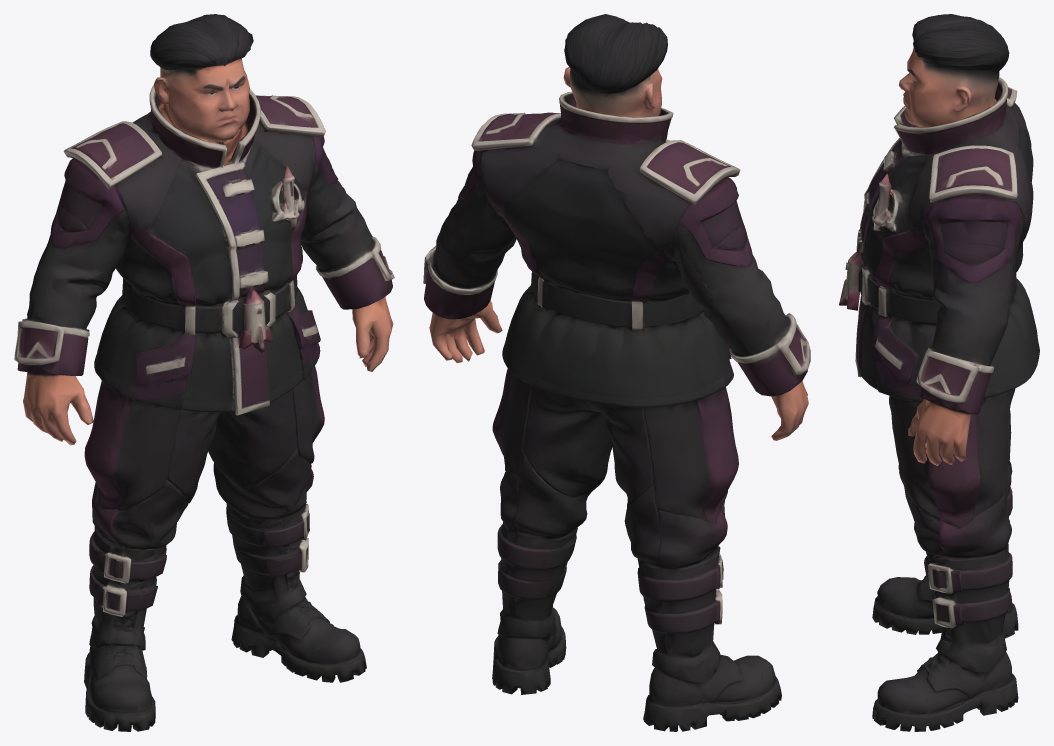
Rendered from kim.glb.
3 views of the same model, side by side, from view 1: azimuth 30°, elevation 25°; view 2: azimuth 150°, elevation 25°; view 3: azimuth 270°, elevation 25° (orthographic). The views are drawn at different scales.
Parts seen in each view (by area): view 1: tripo_node_d0d7dd18-e78b-4821-b3fd-791743546282; view 2: tripo_node_d0d7dd18-e78b-4821-b3fd-791743546282; view 3: tripo_node_d0d7dd18-e78b-4821-b3fd-791743546282.
Part boxes in pixels (left/top/right/bottom): tripo_node_d0d7dd18-e78b-4821-b3fd-791743546282: left=14, top=14, right=394, bottom=731; tripo_node_d0d7dd18-e78b-4821-b3fd-791743546282: left=423, top=14, right=810, bottom=731; tripo_node_d0d7dd18-e78b-4821-b3fd-791743546282: left=839, top=14, right=1039, bottom=731.
Bounding box in the file's own units: 0.5823 × 0.9797 × 0.2761.
1 material, 1 textured.
